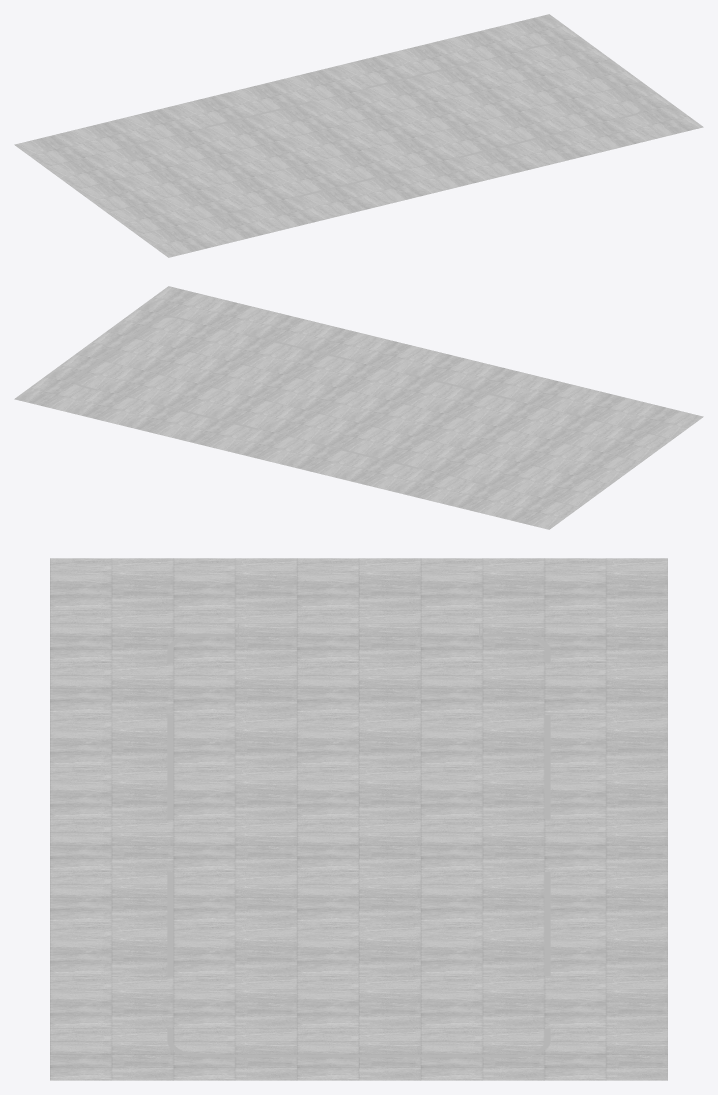
The picture shows the model from 3 angles, top to bottom: view 1: azimuth 30°, elevation 25°; view 2: azimuth 150°, elevation 25°; view 3: azimuth 270°, elevation 25°; orthographic projection. The views are drawn at different scales.
Visible parts, largest first — view 1: M_F_001_c_40x20; view 2: M_F_001_c_40x20; view 3: M_F_001_c_40x20.
Part boxes in pixels (<box>): M_F_001_c_40x20: <box>14,14,703,257</box>; M_F_001_c_40x20: <box>14,286,703,529</box>; M_F_001_c_40x20: <box>50,558,667,1080</box>.
Size of the model in its own units: 40 by 0.000202 by 20.
